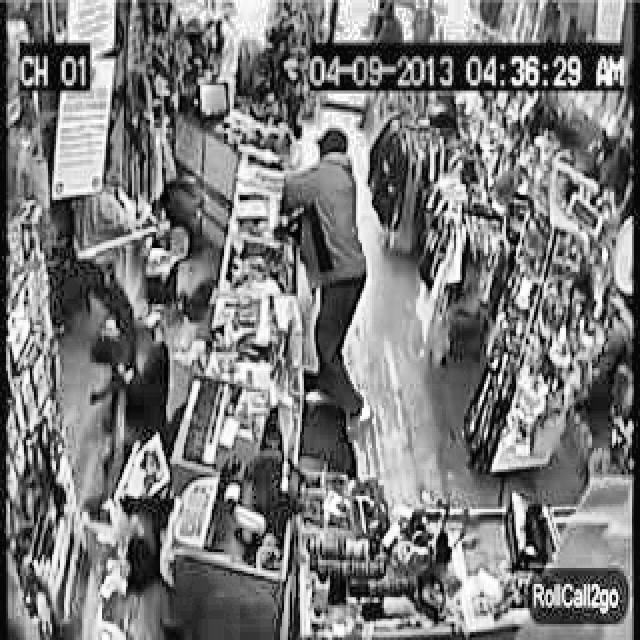robbery: (268, 129, 371, 433), (69, 184, 172, 269)
